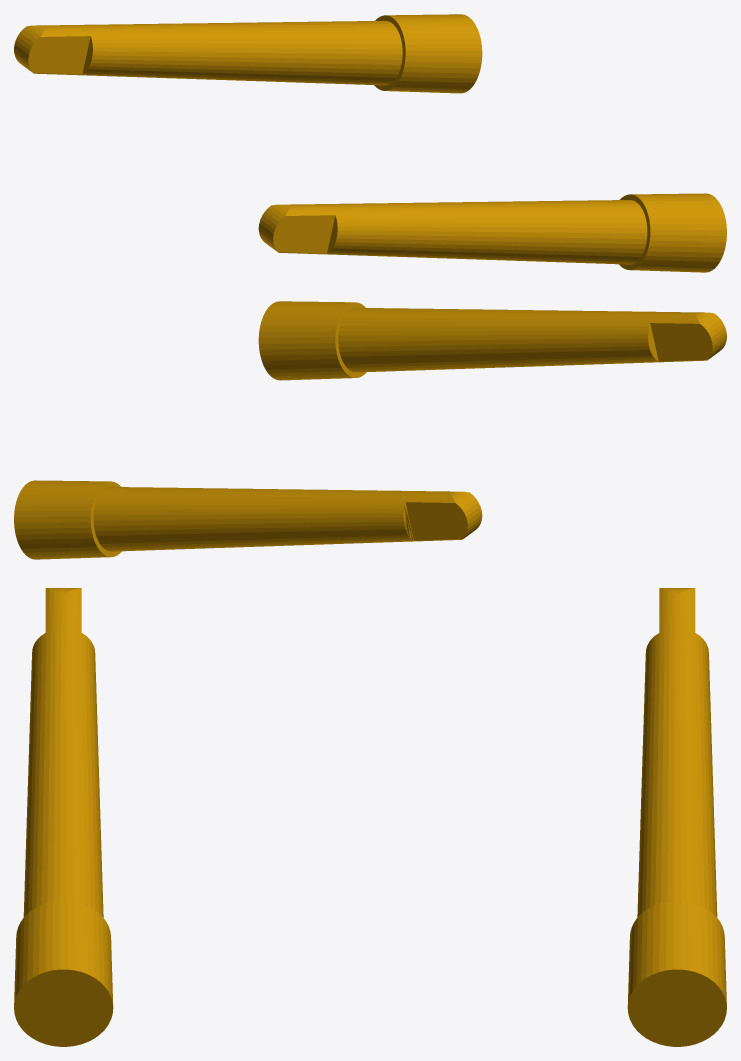
Rendered from bucket_cylinder_visual.dae.
The picture shows the model from 3 angles, top to bottom: view 1: azimuth 30°, elevation 25°; view 2: azimuth 150°, elevation 25°; view 3: azimuth 270°, elevation 25°; orthographic projection. The views are drawn at different scales.
Parts seen in each view (by area): view 1: BucketCylinder.001; view 2: BucketCylinder.001; view 3: BucketCylinder.001.
Boxes of the visible parts, x1,y1,x2,y2 form: BucketCylinder.001: (14, 14, 726, 272); BucketCylinder.001: (14, 301, 726, 559); BucketCylinder.001: (14, 588, 726, 1046).
Size of the model in its own units: 3.59 by 3.95 by 1.25.
